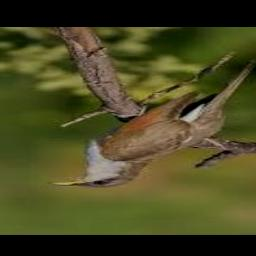Cuckoo: (50, 60, 256, 188)
